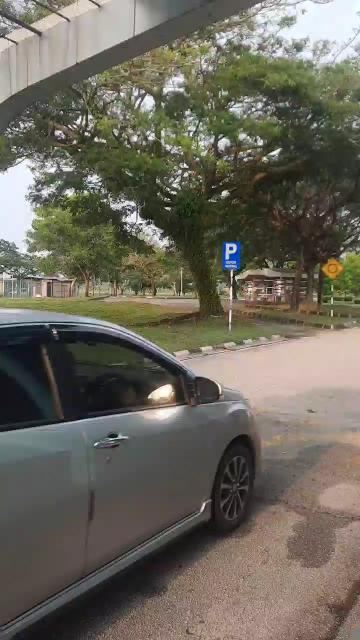car: (2, 293, 263, 640)
